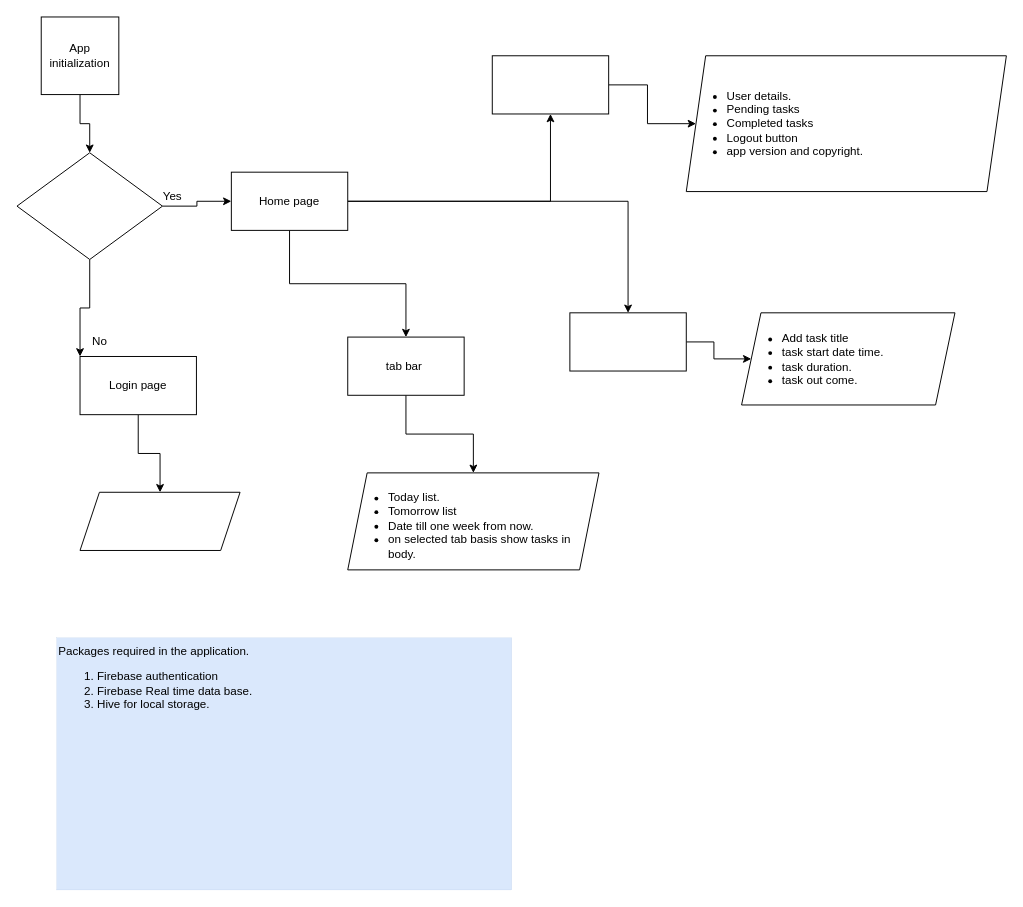
This 1023x907 diagram has some shape labels left out. The shapes that lost their labels are listed below. From the top down, each one's box as (x1, y1, x2, y2) in pixels, then its label:
(491, 55, 609, 114): Drawer
(16, 152, 162, 259): Firebase autherization
(569, 312, 686, 371): Add task FAB
(79, 491, 240, 550): firebase authentication
